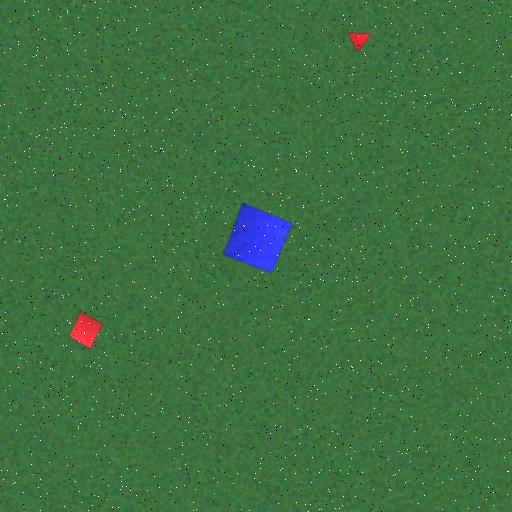BLUE_SQUARE: (222, 202, 293, 274)
RED_SQUARE: (68, 311, 103, 350)
